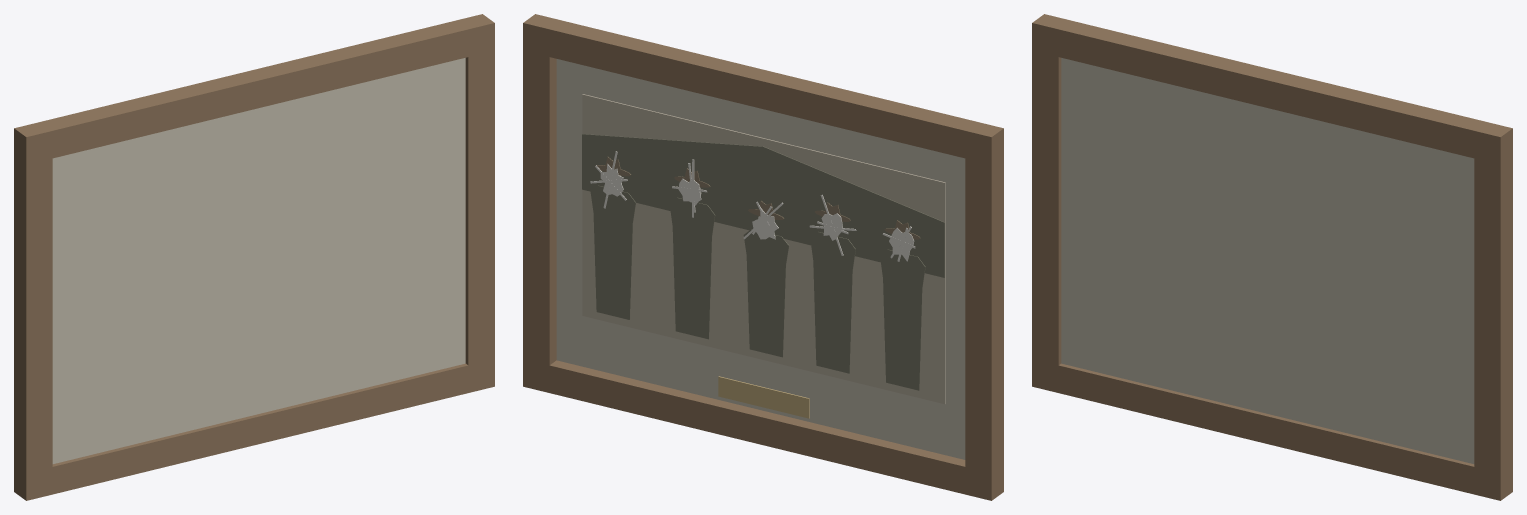
File: ss_staff_photo_b.glb
The picture shows the model from 3 angles, left to right: view 1: azimuth 30°, elevation 25°; view 2: azimuth 150°, elevation 25°; view 3: azimuth 330°, elevation 25°; orthographic projection.
Parts seen in each view (by area): view 1: ss_staff_photo_b; view 2: ss_staff_photo_b; view 3: ss_staff_photo_b.
Boxes of the visible parts, box(x1,y1,x2,y2) form: ss_staff_photo_b: box(14, 14, 494, 500); ss_staff_photo_b: box(523, 14, 1003, 500); ss_staff_photo_b: box(1032, 14, 1512, 500).
Bounding box in the file's own units: 0.62 × 0.46 × 0.028.
